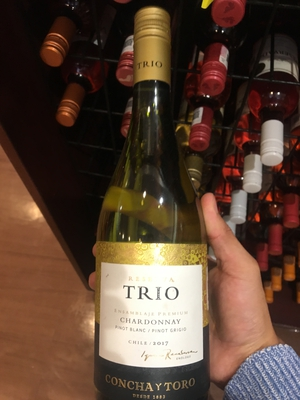trio chardonnay: (90, 14, 222, 400)
